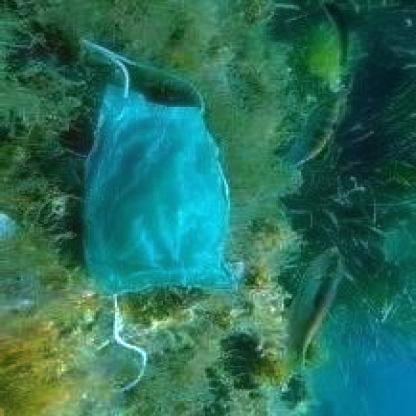Mask: (73, 25, 243, 391)
